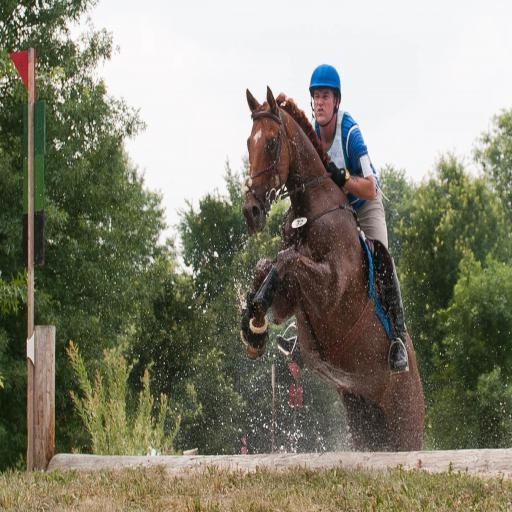horse: (240, 81, 428, 453)
